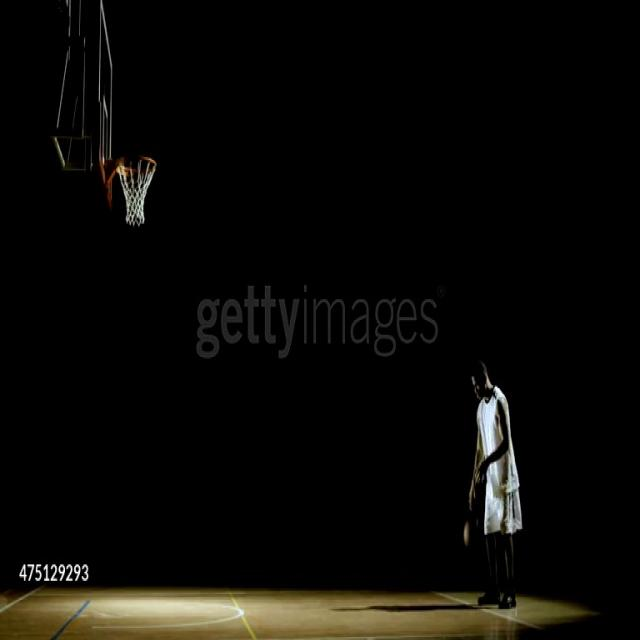ball: (458, 513, 482, 554)
